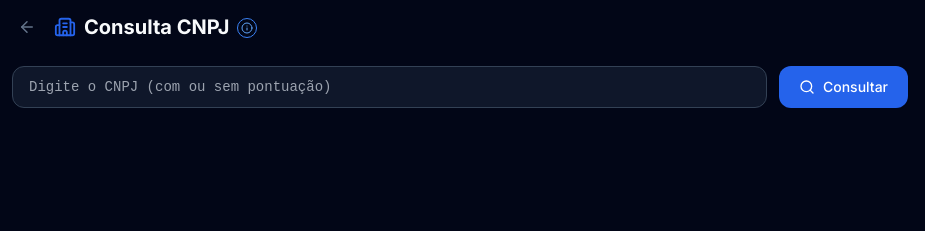
Test: ConsultaCnpjPage › mostra aviso quando o CNPJ não existe na Receita
Type "99.999.999/0001-99" into the field with placeholder "Digite o CNPJ (com ou sem pontuação)" at (390, 87), box [12,66,767,108]
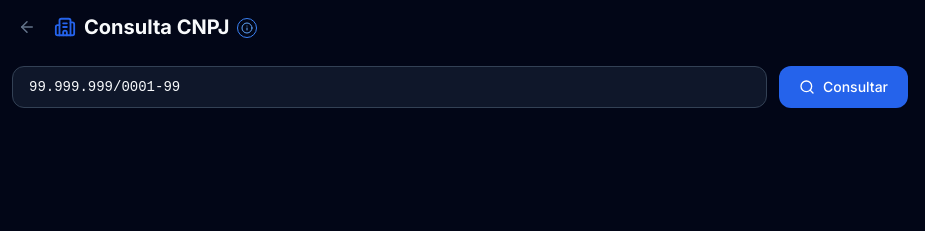
Submit the form, box [12,66,908,108]
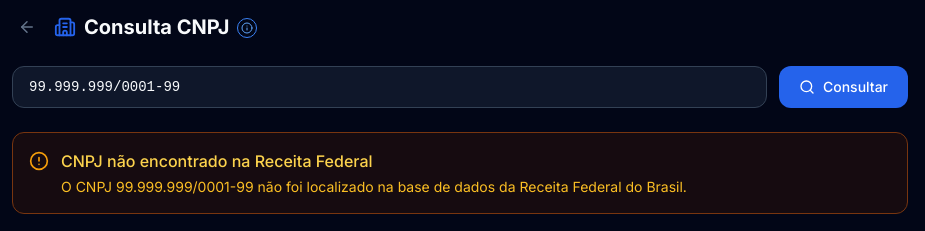
Now the text "CNPJ não encontrado na Receita Federal" is shown, box [61,151,372,171]
